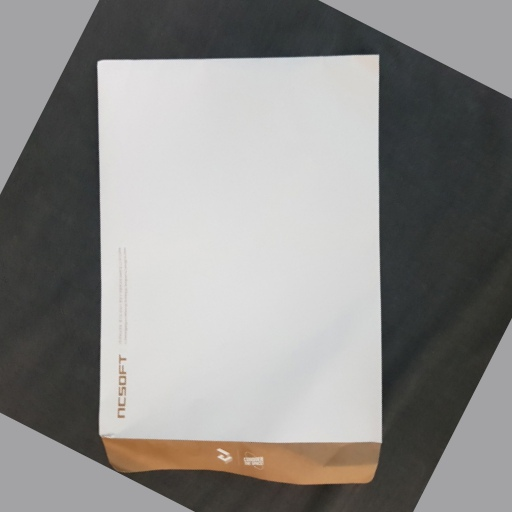Paper_2: (87, 49, 392, 487)
